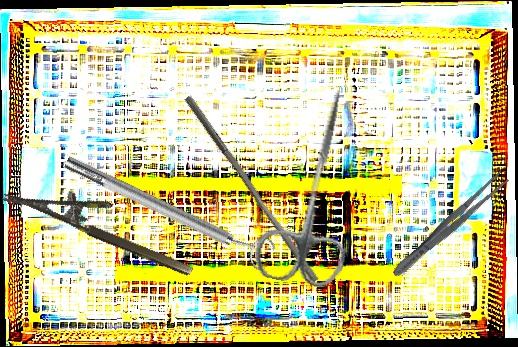Dressing Forceps: (388, 168, 511, 282)
Fixation Ring: (59, 143, 278, 276)
Iris Scissors: (249, 80, 381, 293)
Needle Holder: (0, 163, 205, 279)
Pusher: (176, 94, 326, 285)
